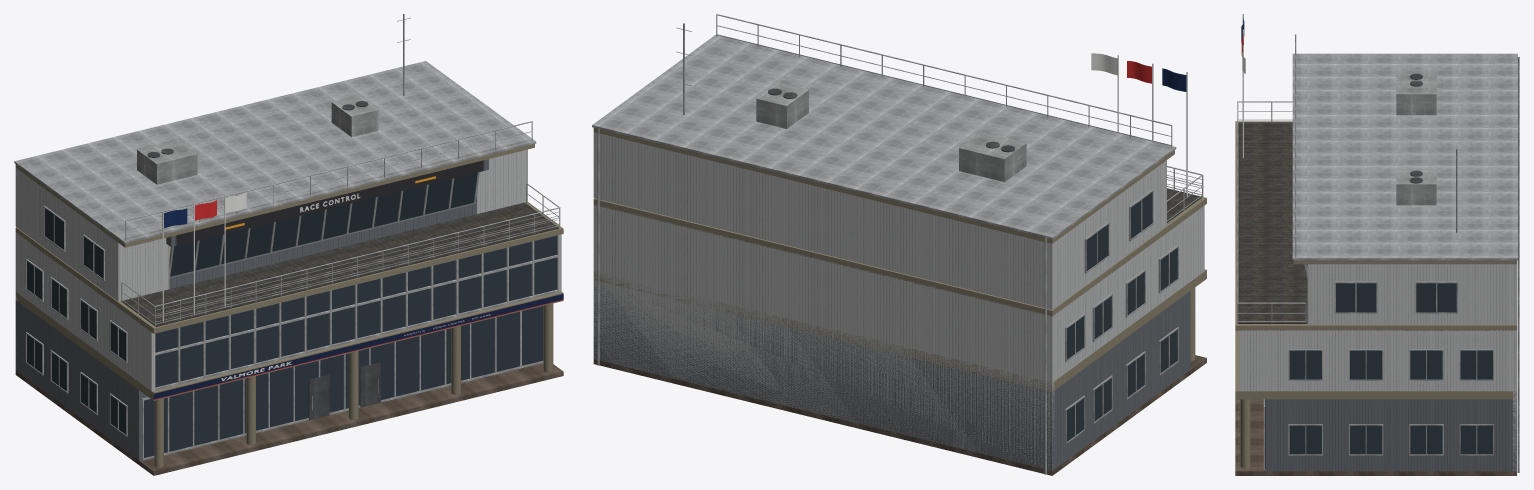
The model's file is pit_building.glb.
3 views of the same model, side by side, from view 1: azimuth 30°, elevation 25°; view 2: azimuth 150°, elevation 25°; view 3: azimuth 270°, elevation 25° (orthographic). The views are drawn at different scales.
Visible parts, largest first — view 1: pit_building; view 2: pit_building; view 3: pit_building.
Boxes of the visible parts, <box> form: pit_building: <box>14,14,563,475</box>; pit_building: <box>592,14,1206,475</box>; pit_building: <box>1235,14,1519,475</box>.
Bounding box in the file's own units: 24.14 × 16.5 × 14.14.
Materials: 16 (11 with a texture image).
